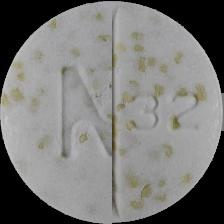0378-4532: (0, 0, 224, 224)
